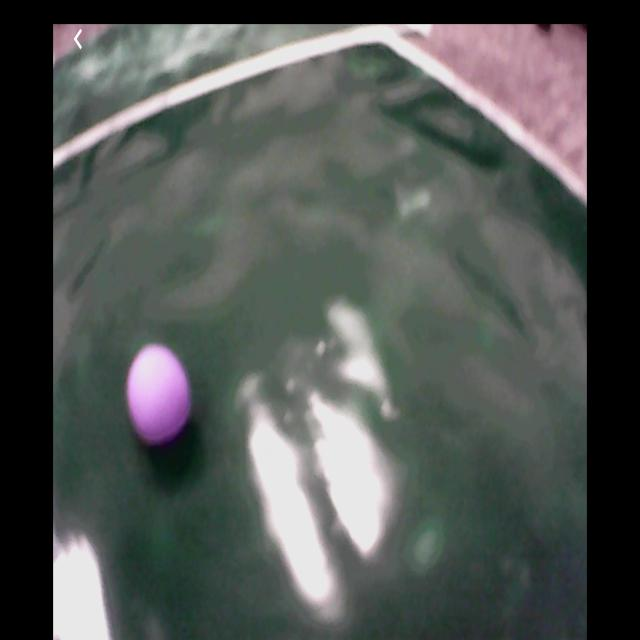ball: (127, 347, 192, 448)
